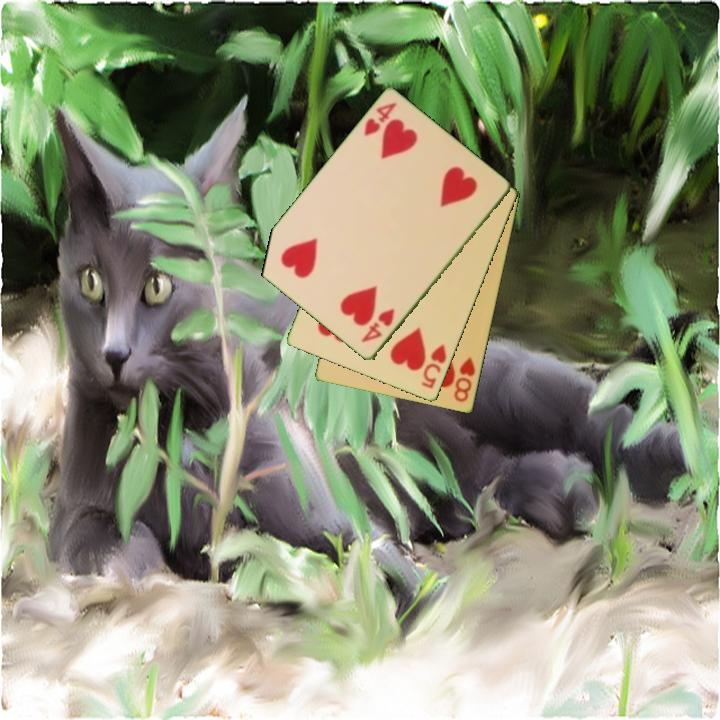4h: (358, 305, 398, 346), (360, 99, 400, 140)
5h: (418, 341, 449, 392)
8h: (451, 354, 479, 405)
